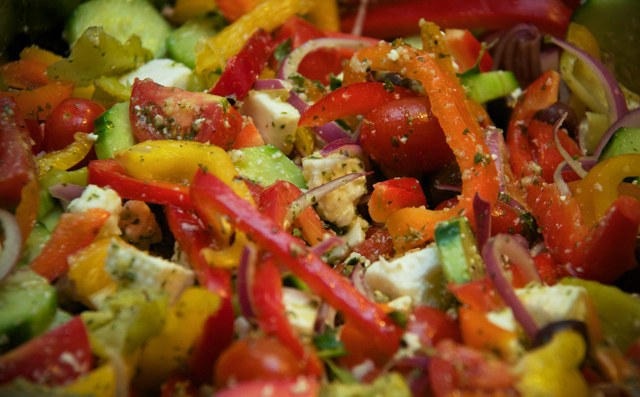tomato: (270, 16, 379, 86), (360, 95, 453, 174), (0, 315, 88, 391), (504, 116, 588, 178), (216, 331, 302, 389), (43, 98, 106, 150)
